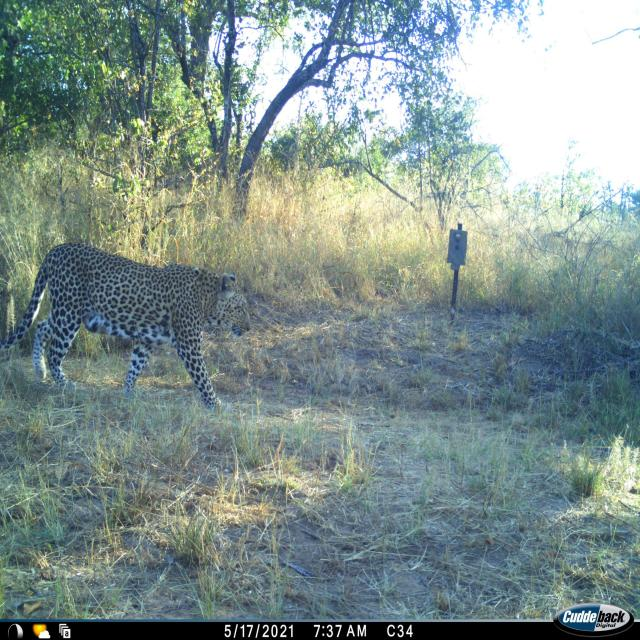Leopard: (11, 239, 251, 414)
